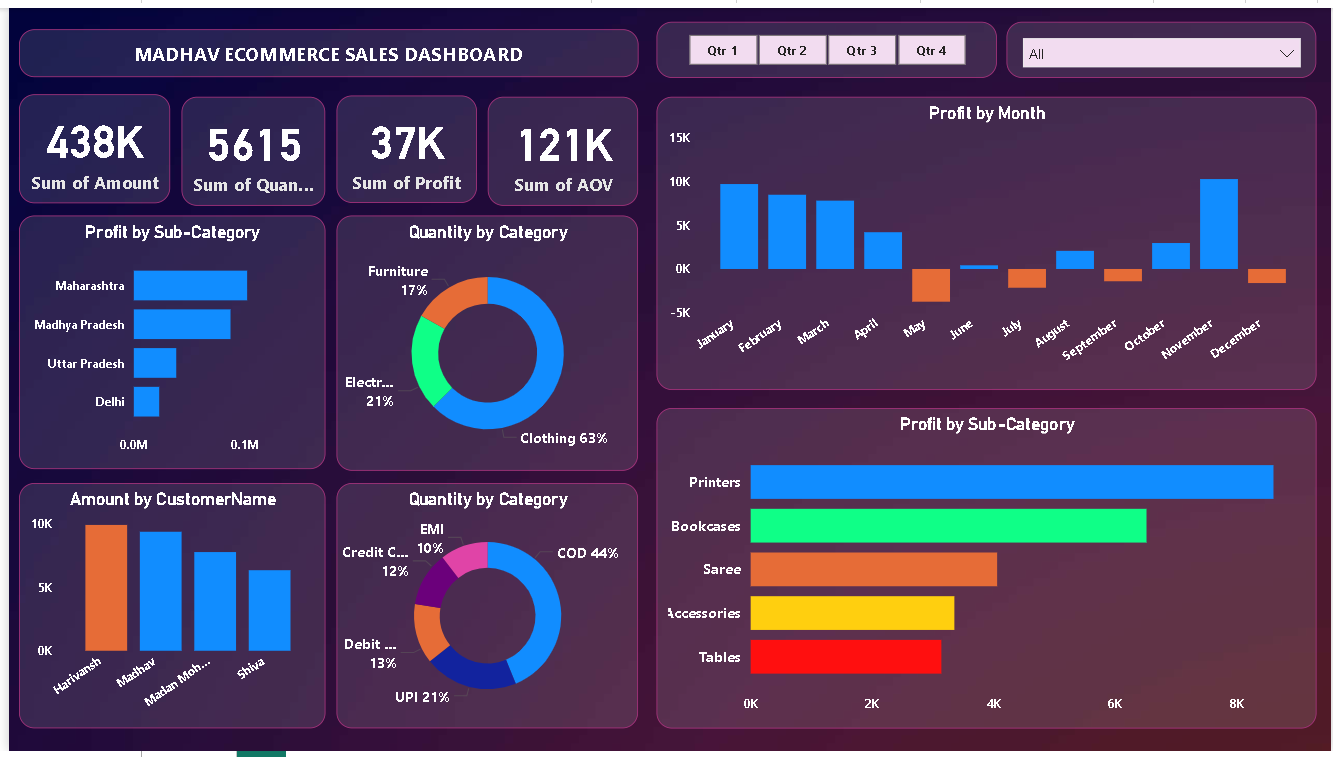

The page's visual inventory and layout, read from the dashboard file:
{"tool":"powerbi","page":{"name":"Page 1","canvas":[1280,720],"ordinal":0},"visuals":[{"type":"columnChart","title":"Profit by Month","fields":{"Category":["Orders.Order Date.Variation.Date Hierarchy.Month"],"Y":["Details.Profit"]},"box":[627.1,86.4,639.5,284],"z":0},{"type":"barChart","title":"Profit by Sub-Category","fields":{"Category":["Details.Sub-Category"],"Y":["Details.Profit"]},"box":[627.1,387,639.5,310.1],"z":1000},{"type":"donutChart","title":"Quantity by Category","fields":{"Category":["Details.Category"],"Y":["Details.Quantity"]},"box":[317,200.3,292.3,247],"z":2000},{"type":"donutChart","title":"Quantity by Category","fields":{"Y":["Details.Quantity"],"Category":["Details.PaymentMode"]},"box":[317,459.7,292.3,237.4],"z":3000},{"type":"card","fields":{"Values":["Details.Amount"]},"box":[9.7,83.5,146.5,105.3],"z":4000},{"type":"card","fields":{"Values":["Details.Quantity"]},"box":[167,85.9,139.2,105.3],"z":5000},{"type":"card","fields":{"Values":["Details.Profit"]},"box":[317,85.1,135.8,104.3],"z":6000},{"type":"card","fields":{"Values":["Details.AOV"]},"box":[463.8,86.4,145.5,105.7],"z":7000},{"type":"barChart","title":"Profit by Sub-Category","fields":{"Category":["Orders.State"],"Y":["Details.Amount"]},"box":[9.7,200.9,296.6,245.7],"z":8000},{"type":"columnChart","title":"Amount by CustomerName","fields":{"Category":["Orders.CustomerName"],"Y":["Details.Amount"]},"box":[9.7,460,296.6,237.3],"z":9000},{"type":"textbox","box":[9.6,20.6,599.7,46.7],"z":10000},{"type":"slicer","fields":{"Values":["Orders.Order Date.Variation.Date Hierarchy.Quarter"]},"box":[627,13.3,329.3,54.5],"z":10001},{"type":"slicer","fields":{"Values":["Orders.State"]},"box":[966,13.3,300.2,54.5],"z":10002}]}

Visuals, with their boxes in screenshot pixels (x1, y1, x2, y2), scaled from the page's 1280x720 canvas onto the 1333x757 screenshot:
"Profit by Month" columnChart: x1=653 y1=91 x2=1319 y2=389
"Profit by Sub-Category" barChart: x1=653 y1=407 x2=1319 y2=733
"Quantity by Category" donutChart: x1=330 y1=211 x2=635 y2=470
"Quantity by Category" donutChart: x1=330 y1=483 x2=635 y2=733
card - Details.Amount: x1=10 y1=88 x2=163 y2=199
card - Details.Quantity: x1=174 y1=90 x2=319 y2=201
card - Details.Profit: x1=330 y1=89 x2=472 y2=199
card - Details.AOV: x1=483 y1=91 x2=635 y2=202
"Profit by Sub-Category" barChart: x1=10 y1=211 x2=319 y2=470
"Amount by CustomerName" columnChart: x1=10 y1=484 x2=319 y2=733
textbox: x1=10 y1=22 x2=635 y2=71
slicer - Orders.Order Date.Variation.Date Hierarchy.Quarter: x1=653 y1=14 x2=996 y2=71
slicer - Orders.State: x1=1006 y1=14 x2=1319 y2=71
